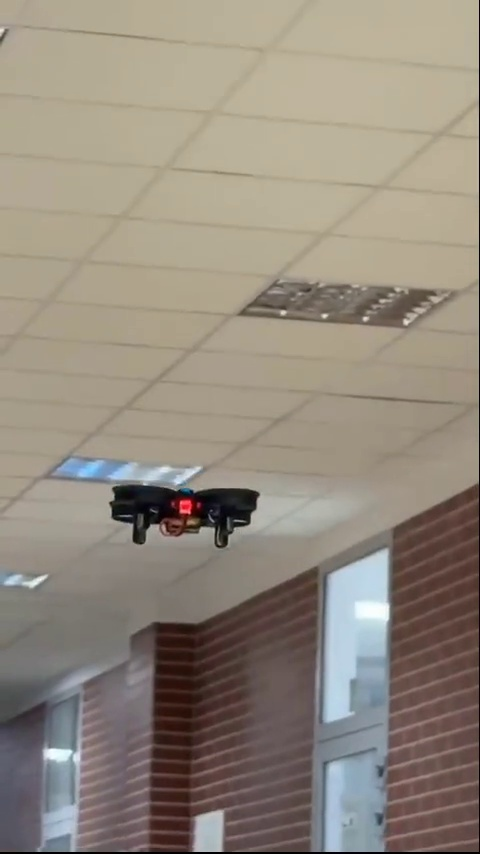drone: (105, 479, 261, 550)
